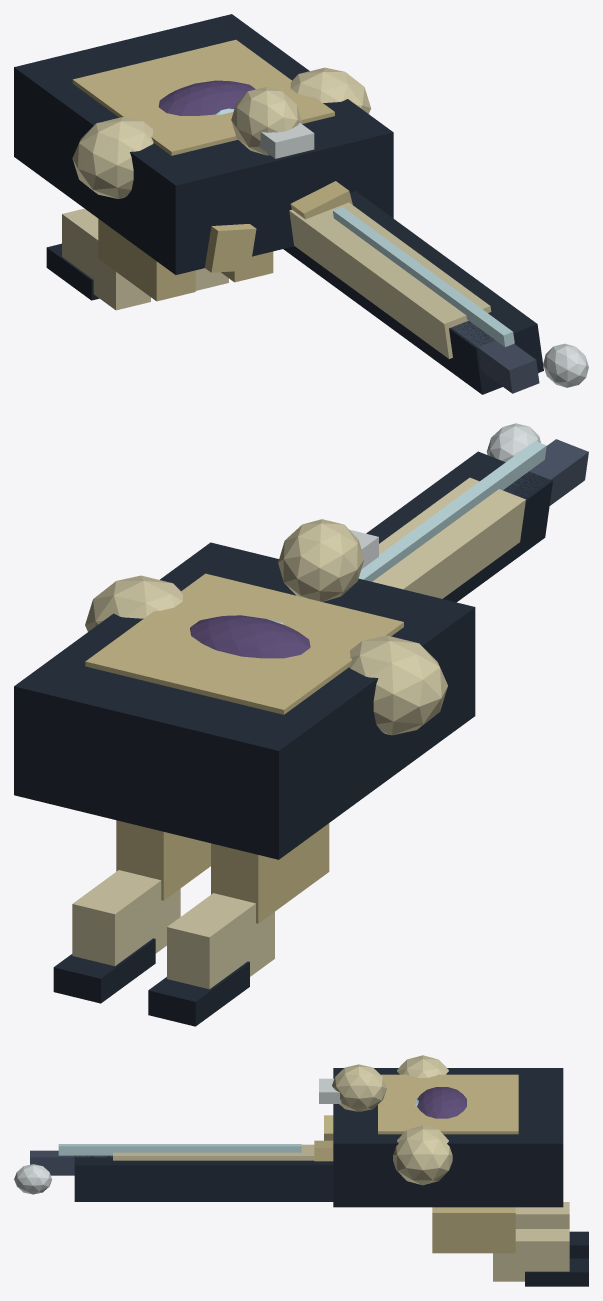
The model's file is helias_rift_lancer.glb.
3 renders of one model, top to bottom at view 1: azimuth 30°, elevation 25°; view 2: azimuth 150°, elevation 25°; view 3: azimuth 270°, elevation 25°, orthographic. The views are drawn at different scales.
Parts seen in each view (by area): view 1: torso_shadow, torso, rifle, rifle_shadow, l_shoulder, shin_-1, thigh_-1, energy_line, helm, barrel, chest, left_arm (+7 smaller); view 2: torso_shadow, torso, rifle, shin_-1, shin_1, l_shoulder, thigh_-1, rifle_shadow, helm, thigh_1, energy_line, chest (+5 smaller); view 3: torso_shadow, rifle_shadow, torso, thigh_1, shin_1, r_shoulder, energy_line, helm, rifle, chest, foot_1, shin_-1 (+6 smaller).
Part boxes in pixels (x1,y1,x2,y2): torso_shadow: [14, 14, 393, 274]; torso: [72, 39, 334, 155]; rifle: [289, 202, 491, 358]; rifle_shadow: [283, 191, 543, 394]; l_shoulder: [72, 117, 153, 198]; shin_-1: [62, 208, 150, 310]; thigh_-1: [98, 219, 195, 301]; energy_line: [333, 207, 514, 346]; helm: [231, 87, 302, 155]; barrel: [451, 320, 539, 393]; chest: [158, 80, 255, 115]; left_arm: [204, 224, 256, 272]; torso_shadow: [14, 542, 475, 859]; torso: [85, 573, 403, 714]; rifle: [372, 477, 525, 598]; shin_-1: [167, 893, 274, 989]; shin_1: [72, 870, 180, 966]; l_shoulder: [349, 635, 447, 735]; thigh_-1: [211, 823, 329, 923]; rifle_shadow: [366, 451, 552, 602]; helm: [278, 519, 364, 601]; thigh_1: [116, 820, 210, 900]; energy_line: [358, 441, 546, 581]; chest: [190, 615, 310, 658]; torso_shadow: [333, 1068, 563, 1207]; rifle_shadow: [74, 1155, 333, 1201]; torso: [378, 1074, 518, 1134]; thigh_1: [432, 1207, 515, 1253]; shin_1: [493, 1229, 569, 1281]; r_shoulder: [393, 1125, 452, 1185]; energy_line: [58, 1144, 301, 1155]; helm: [332, 1064, 386, 1111]; rifle: [113, 1144, 314, 1160]; chest: [417, 1087, 466, 1118]; foot_1: [525, 1258, 588, 1286]; shin_-1: [515, 1202, 569, 1228].
Size of the model in its own units: 0.74 by 0.691 by 1.8.
